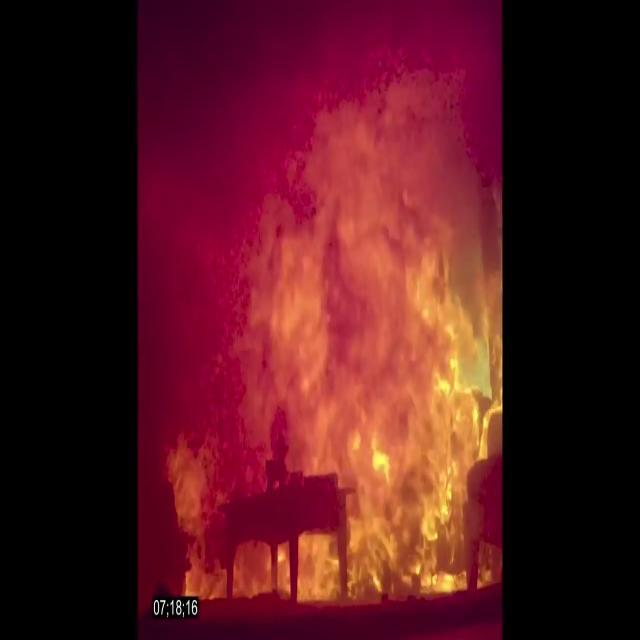Fire: (143, 39, 502, 635)
